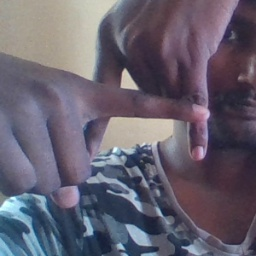H: (62, 27, 229, 174)
